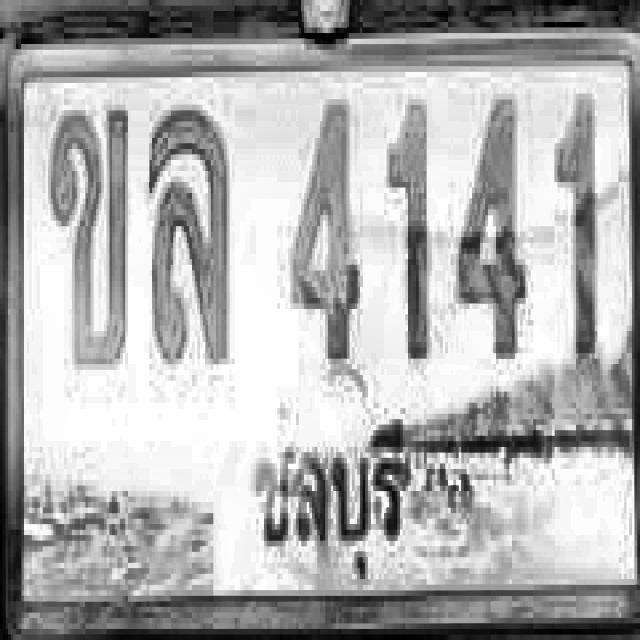license-plate: (8, 43, 640, 640)
